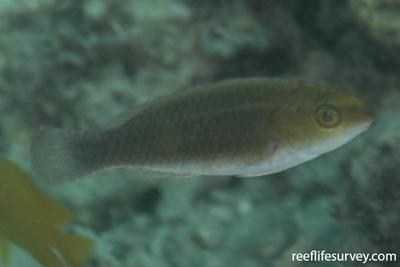Scaridae -Parrotfishes-: (28, 74, 376, 192)
